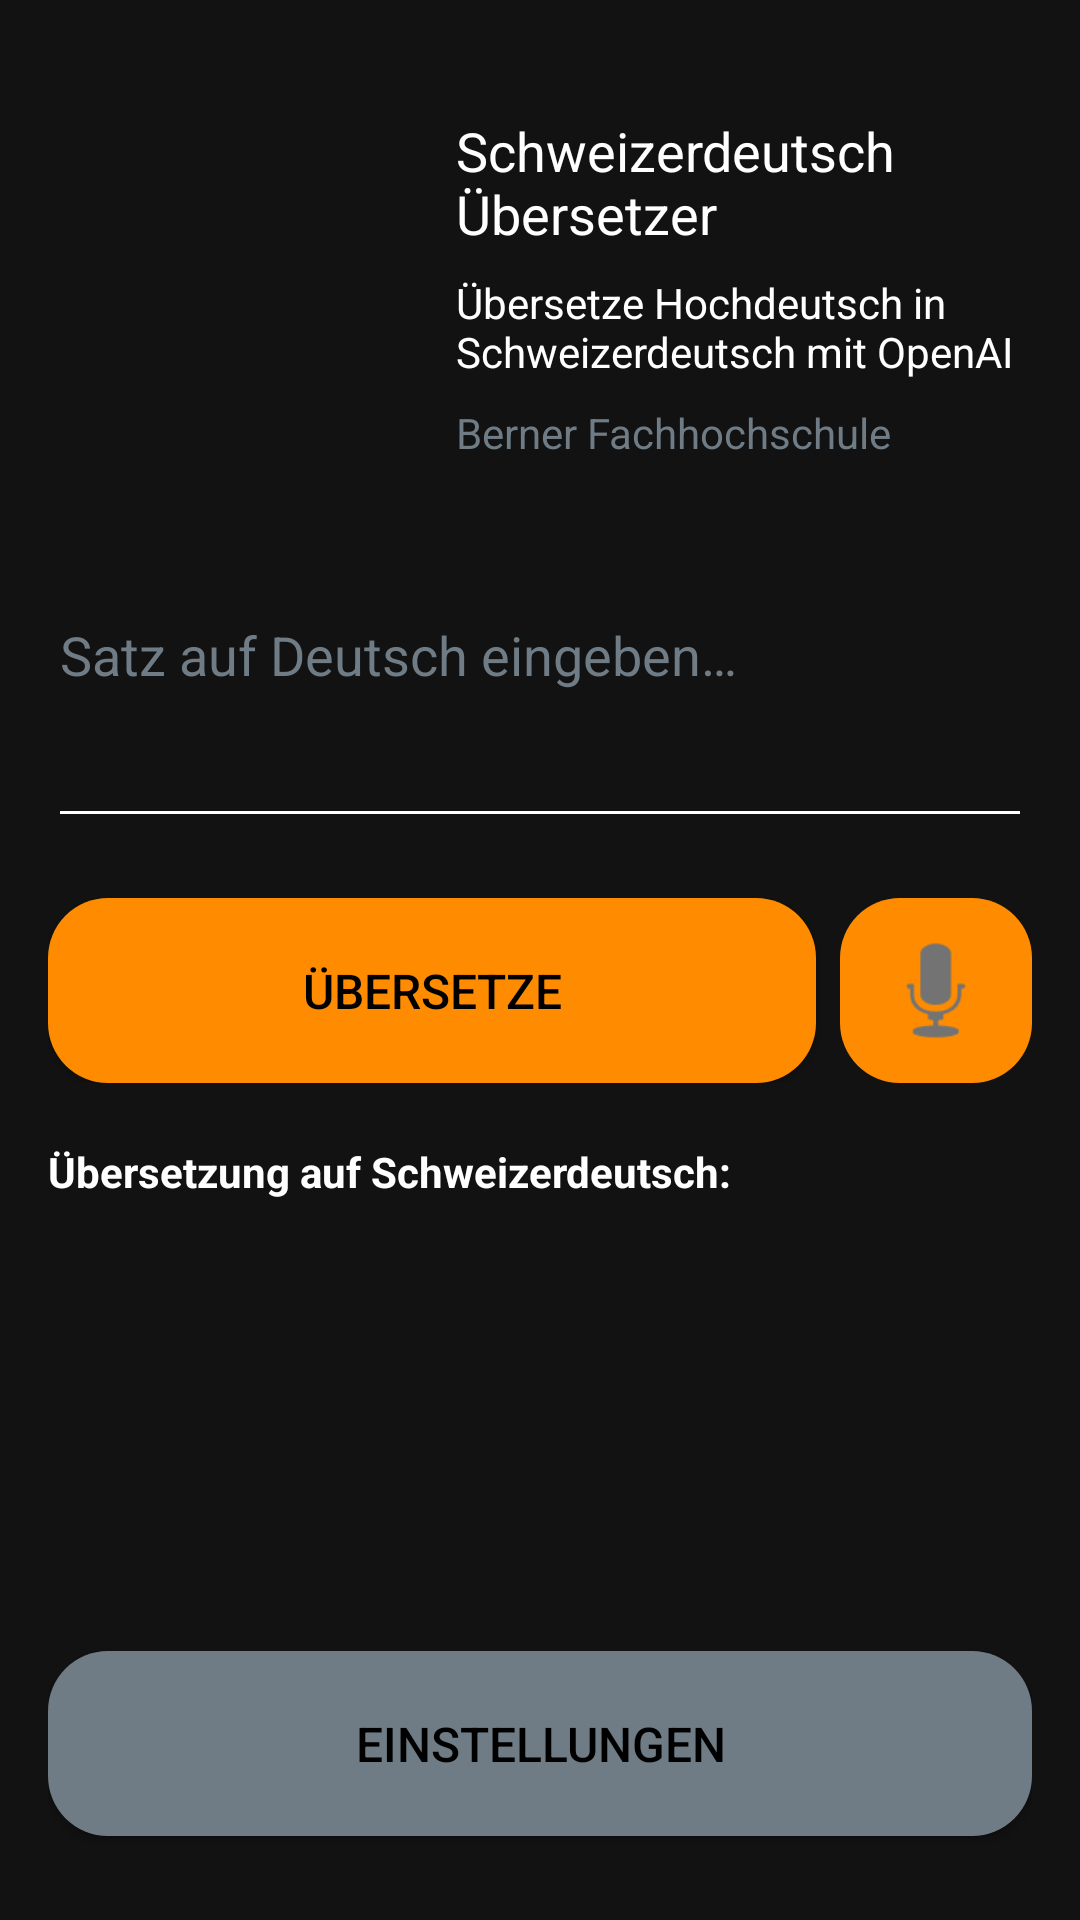

Named icons in this screenshot (1080×1920) and their bounding boxes, (x1, y1, x2, y2):
Sprechen: (840, 898, 1032, 1083)
